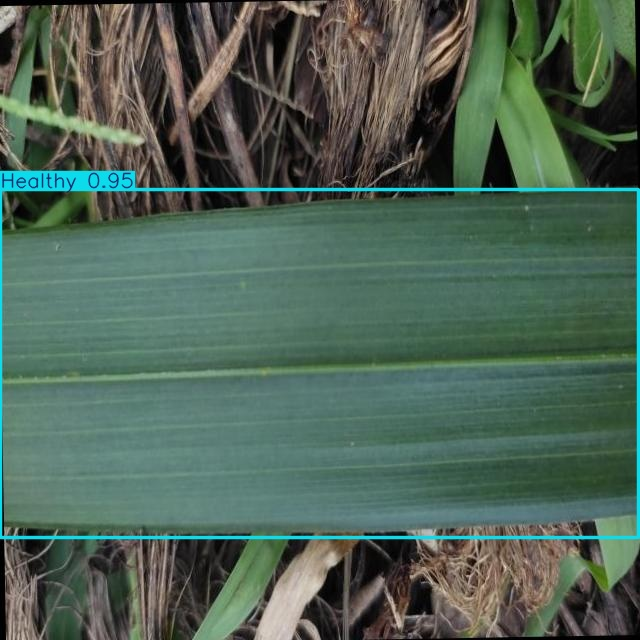Healthy: (1, 190, 638, 537)
